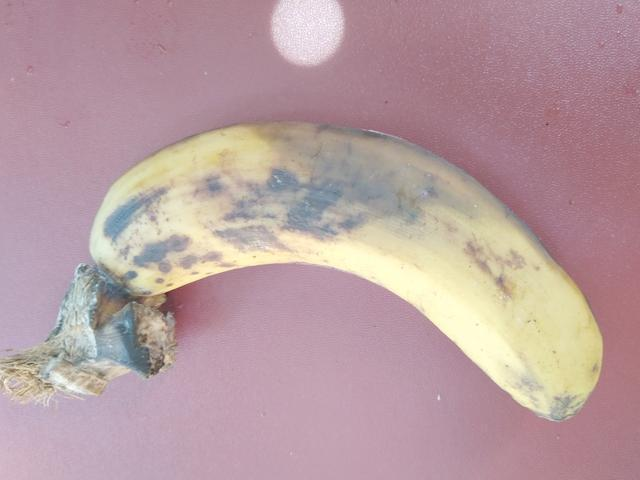overripe: (98, 99, 612, 432)
rotten: (227, 75, 498, 241)
